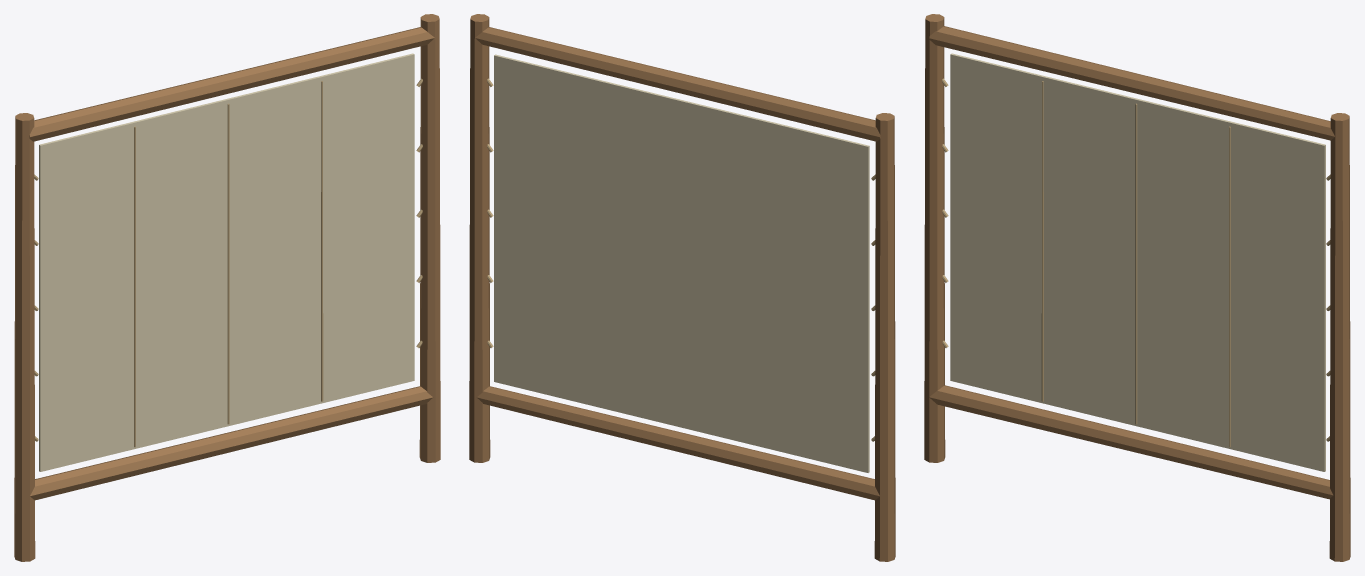
3 views of the same model, side by side, from view 1: azimuth 30°, elevation 25°; view 2: azimuth 150°, elevation 25°; view 3: azimuth 330°, elevation 25° (orthographic).
Visible parts, largest first — view 1: CE-043 Tensioned sailcloth sewing frame batched; view 2: CE-043 Tensioned sailcloth sewing frame batched; view 3: CE-043 Tensioned sailcloth sewing frame batched.
Boxes of the visible parts, left/top/right/bottom form: CE-043 Tensioned sailcloth sewing frame batched: left=14, top=14, right=440, bottom=561; CE-043 Tensioned sailcloth sewing frame batched: left=469, top=14, right=895, bottom=561; CE-043 Tensioned sailcloth sewing frame batched: left=924, top=14, right=1350, bottom=561.
Size of the model in its own units: 1.36 by 1.35 by 0.06.
